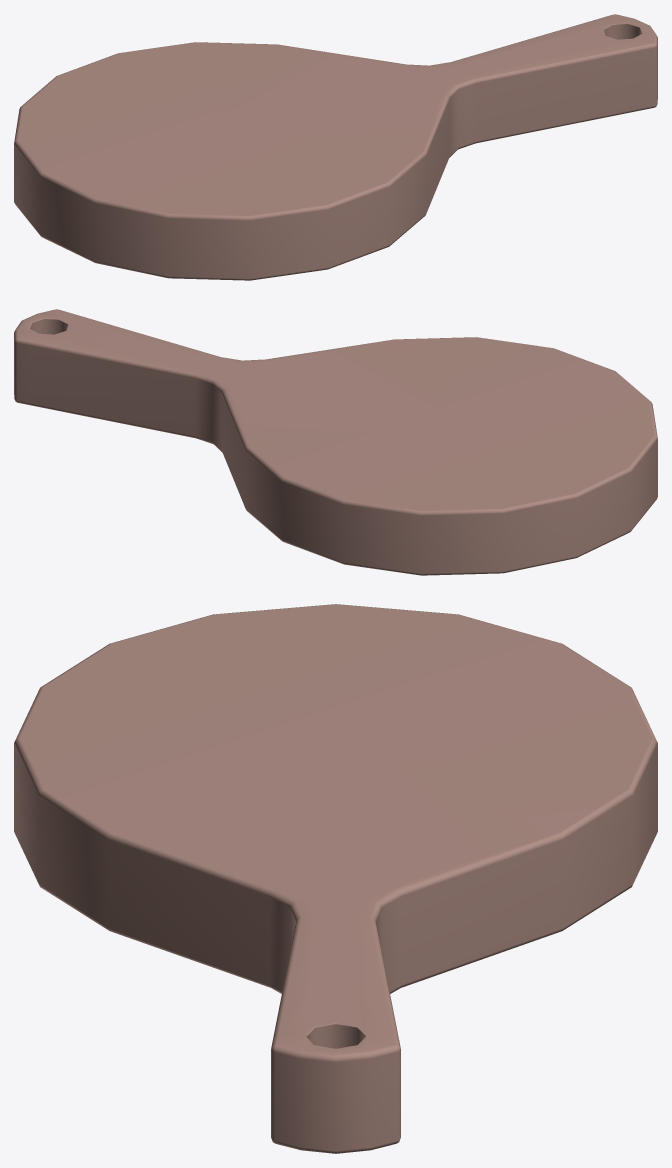
The model's file is Store_1_Pizza_Board_1.glb.
The picture shows the model from 3 angles, top to bottom: view 1: azimuth 30°, elevation 25°; view 2: azimuth 150°, elevation 25°; view 3: azimuth 270°, elevation 25°; orthographic projection. The views are drawn at different scales.
Parts seen in each view (by area): view 1: Store_1_Pizza_Board_1; view 2: Store_1_Pizza_Board_1; view 3: Store_1_Pizza_Board_1.
Part boxes in pixels (x1,y1,x2,y2): Store_1_Pizza_Board_1: (14, 14, 657, 280); Store_1_Pizza_Board_1: (14, 309, 657, 575); Store_1_Pizza_Board_1: (14, 604, 657, 1153).
Bounding box in the file's own units: 0.9757 × 0.0992 × 0.5832.
1 material, 1 textured.
